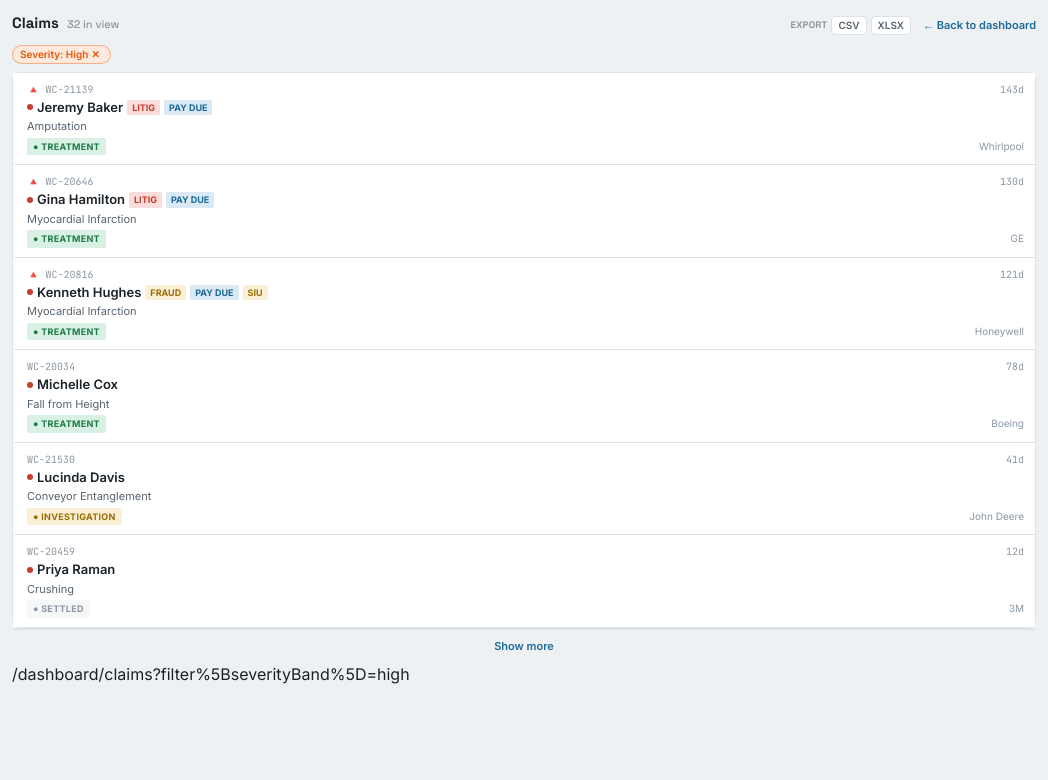
a rejected second page keeps the loaded rows and offers a list reload
Click the button with test id "drill-more" at (524,645), box top-left (12, 629), bottom-right (1036, 662)
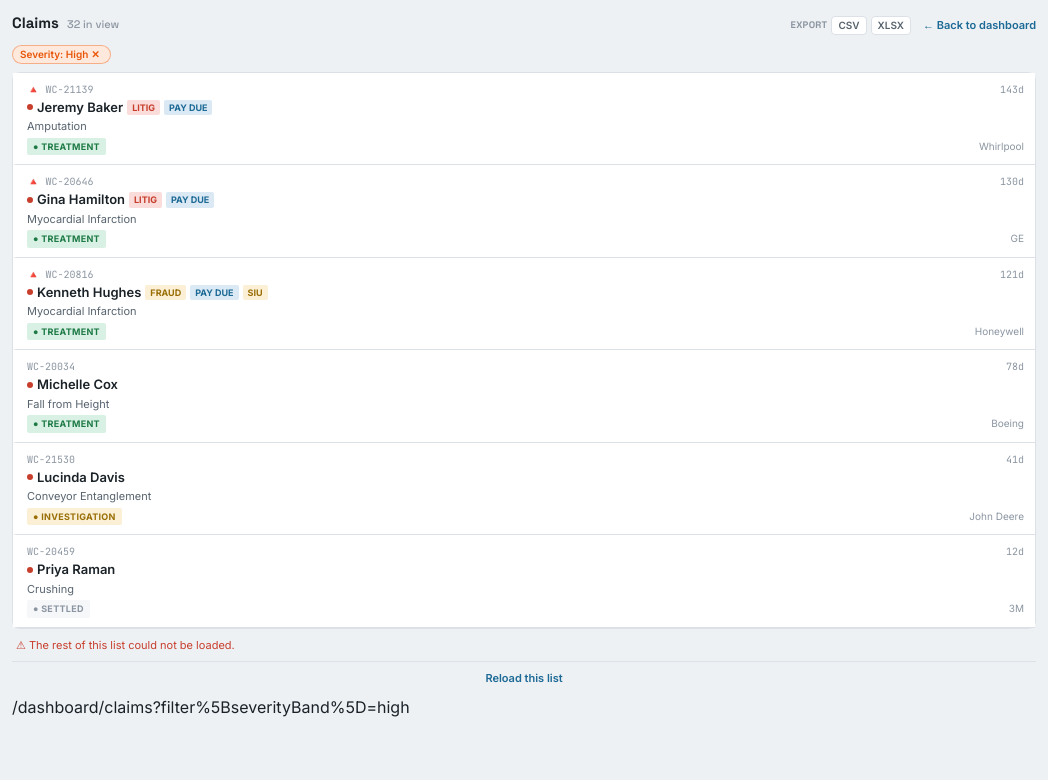
Expected: the button with test id "drill-reload" is shown, top-left (12, 661), bottom-right (1036, 695)
Expected: the button with test id "drill-more" is gone
